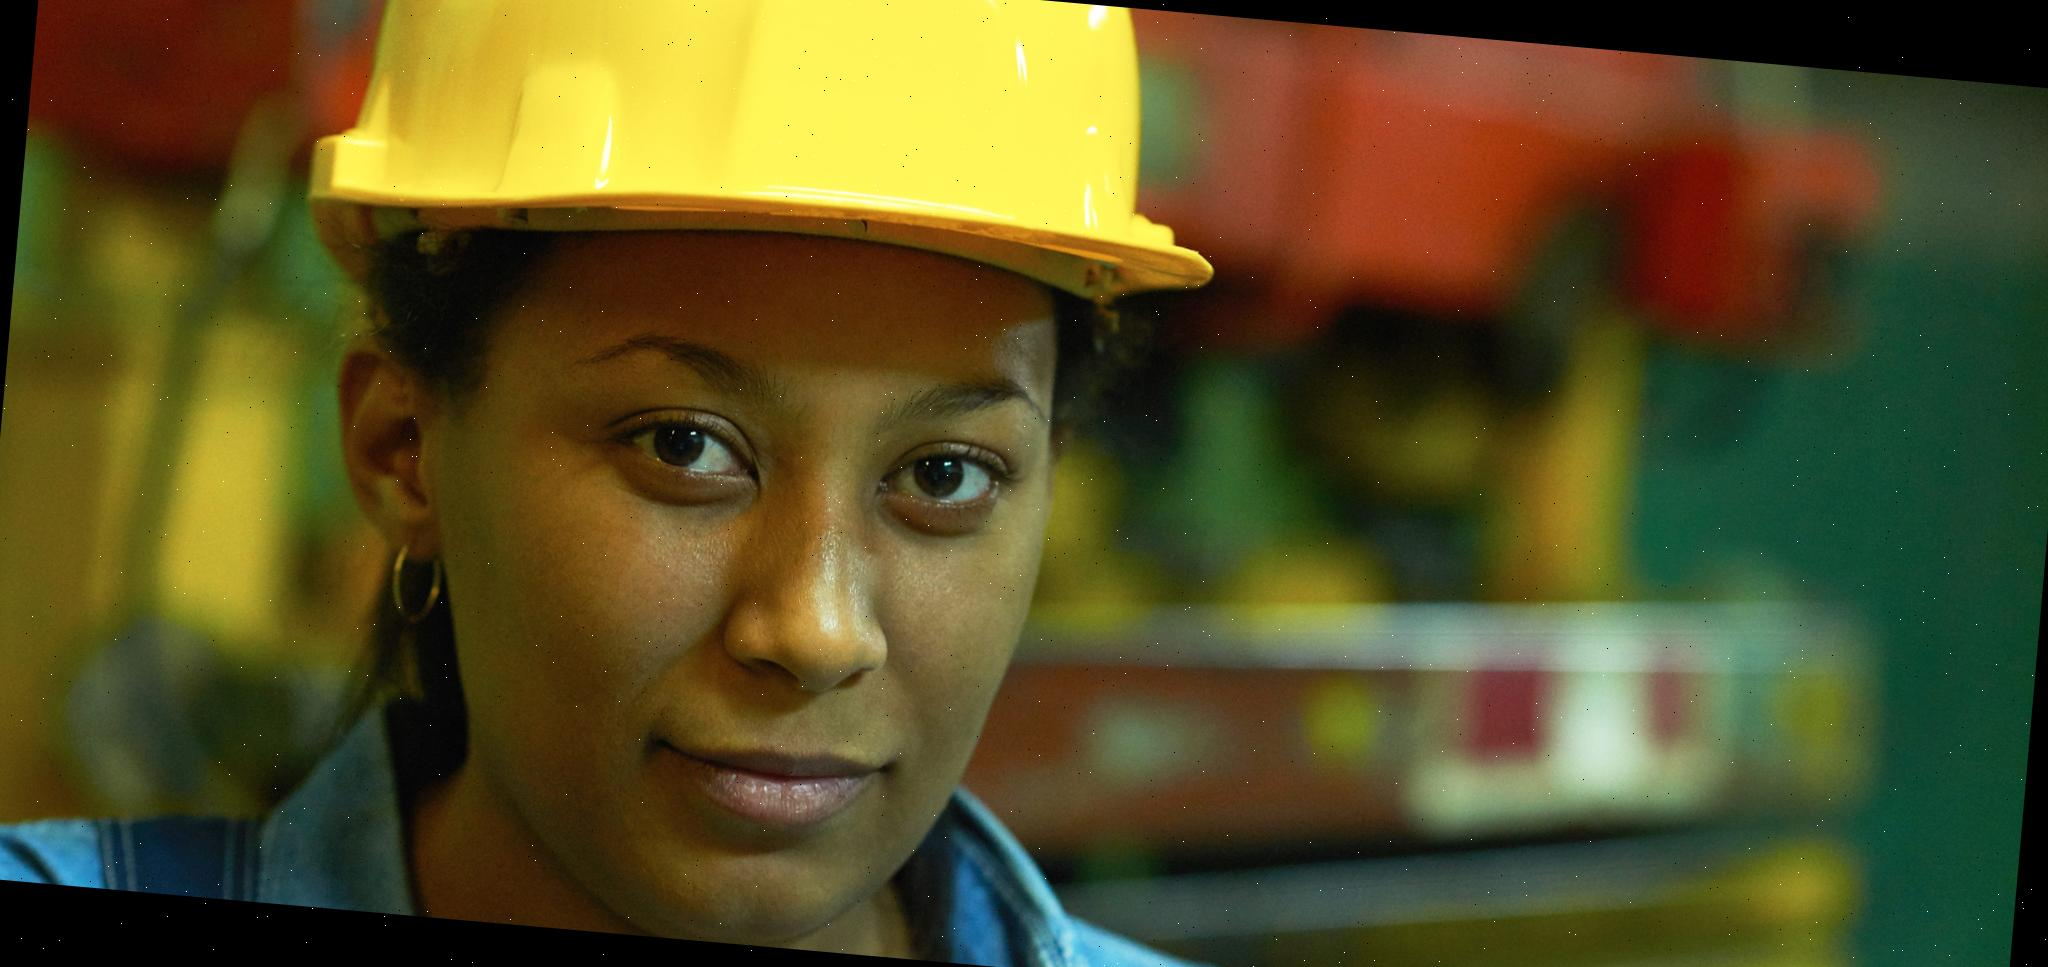helmet: (286, 0, 1249, 362)
